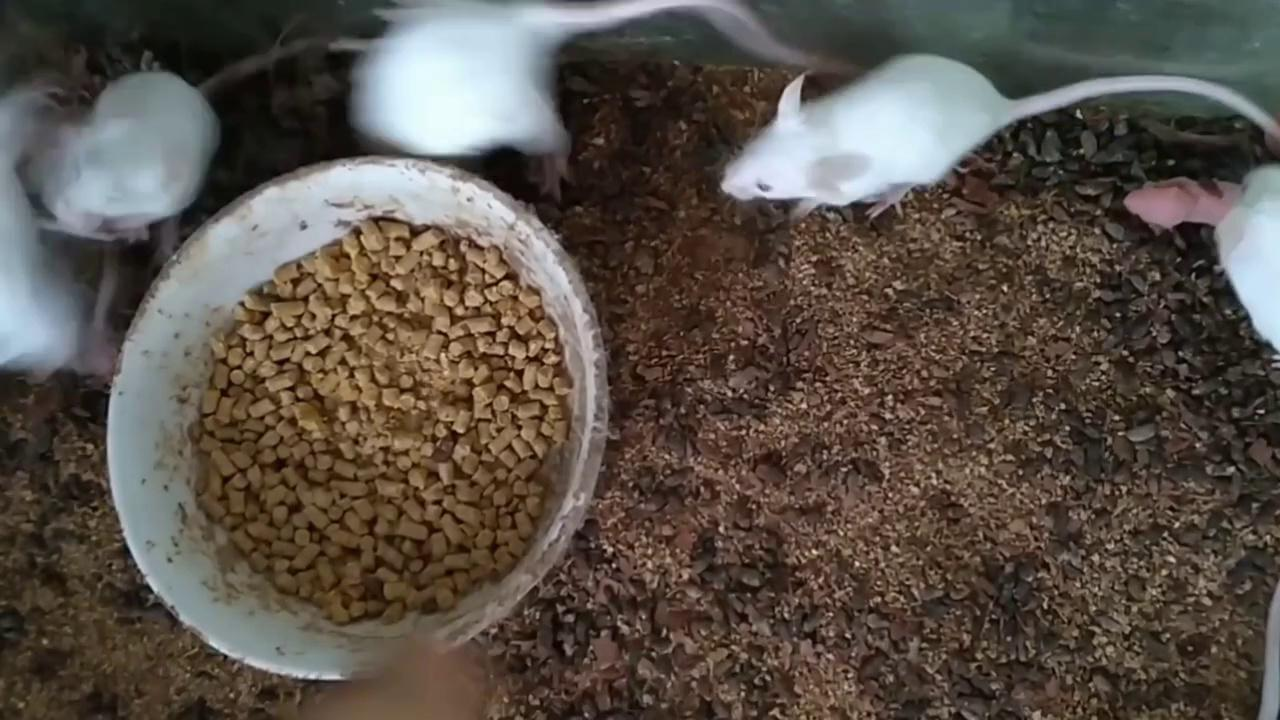rat: (352, 0, 868, 199), (720, 51, 1280, 220), (32, 33, 340, 240)
